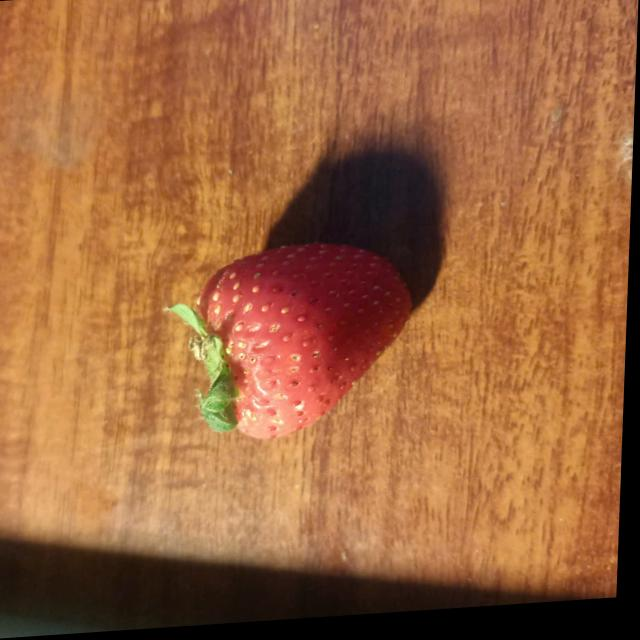DauTay: (164, 209, 437, 481)
